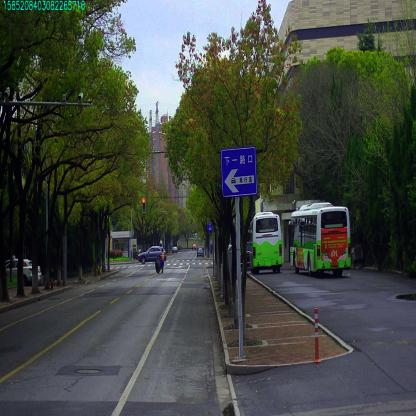traffic-light: (142, 198, 146, 212)
